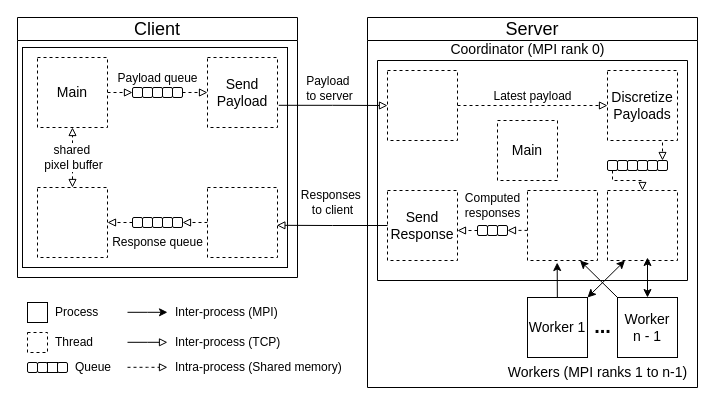
Some shapes in this 715 by 405 pixel diagram are drawn without their labels. Each missing label, with the centre of its shape:
"Process Response" goes at point (72, 222).
"Recv From Worker" goes at point (562, 225).
"Recv Payload" goes at point (422, 105).
"Recv Response" goes at point (242, 222).
"Send To Worker" goes at point (642, 225).
